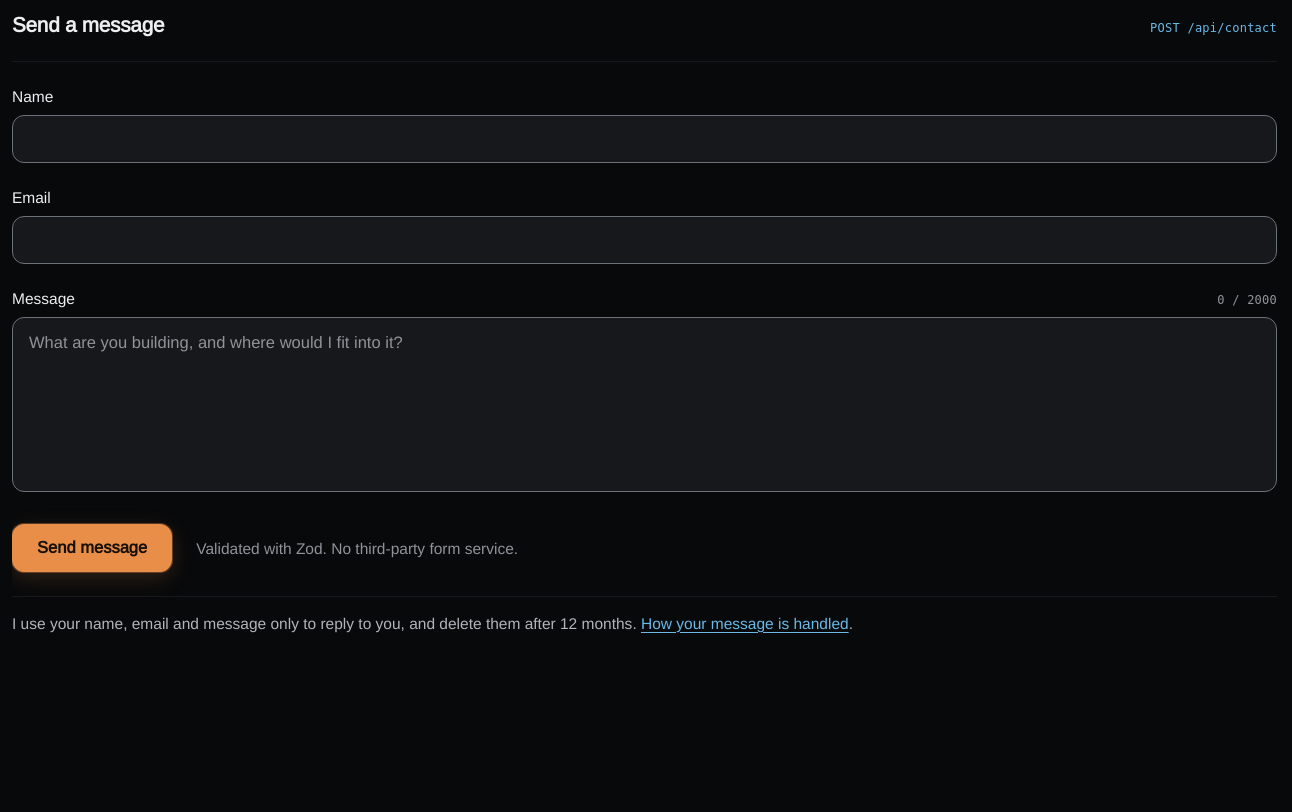
it: ContactForm › shows the success state after a successful send
In the field labelled "Name": (644, 139) [12, 115, 1277, 163], type "Ada Lovelace"
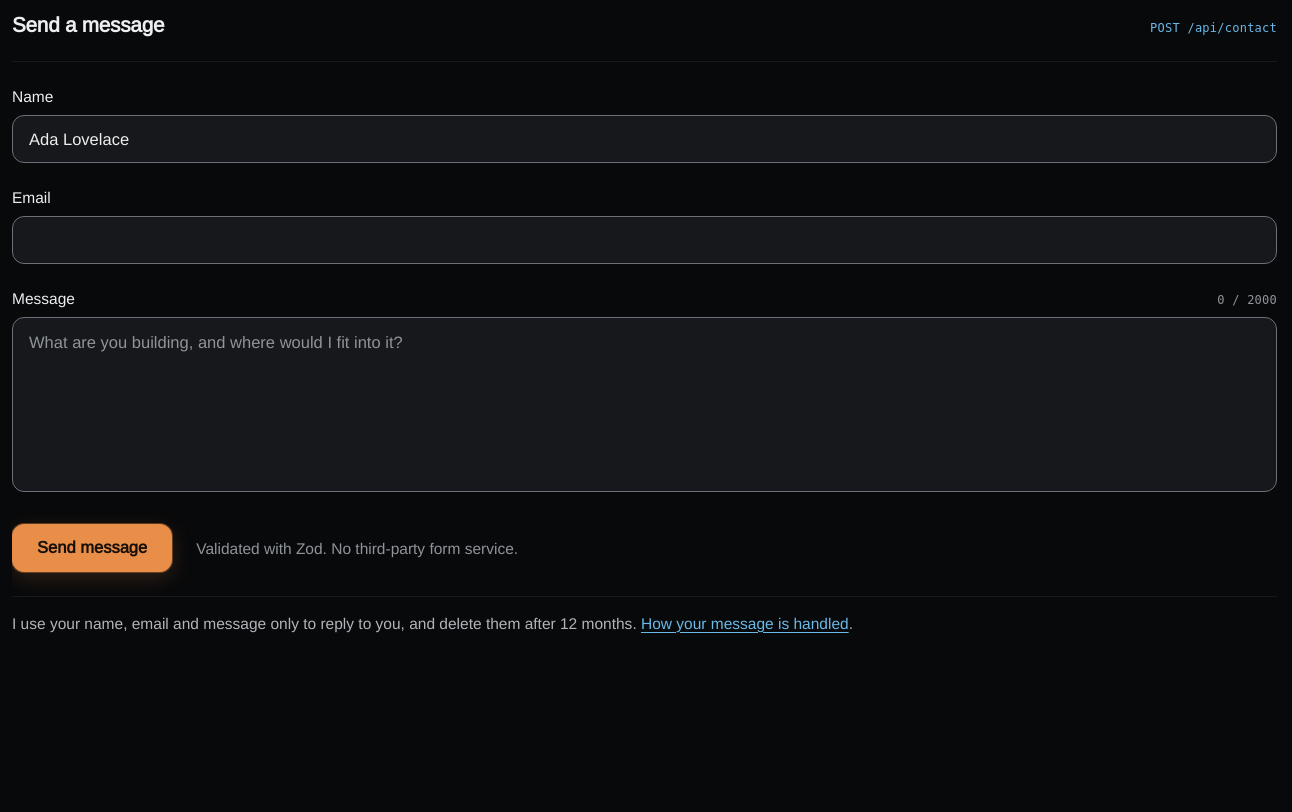
In the field labelled "Email": (644, 240) [12, 216, 1277, 264], type "ada@example.com"
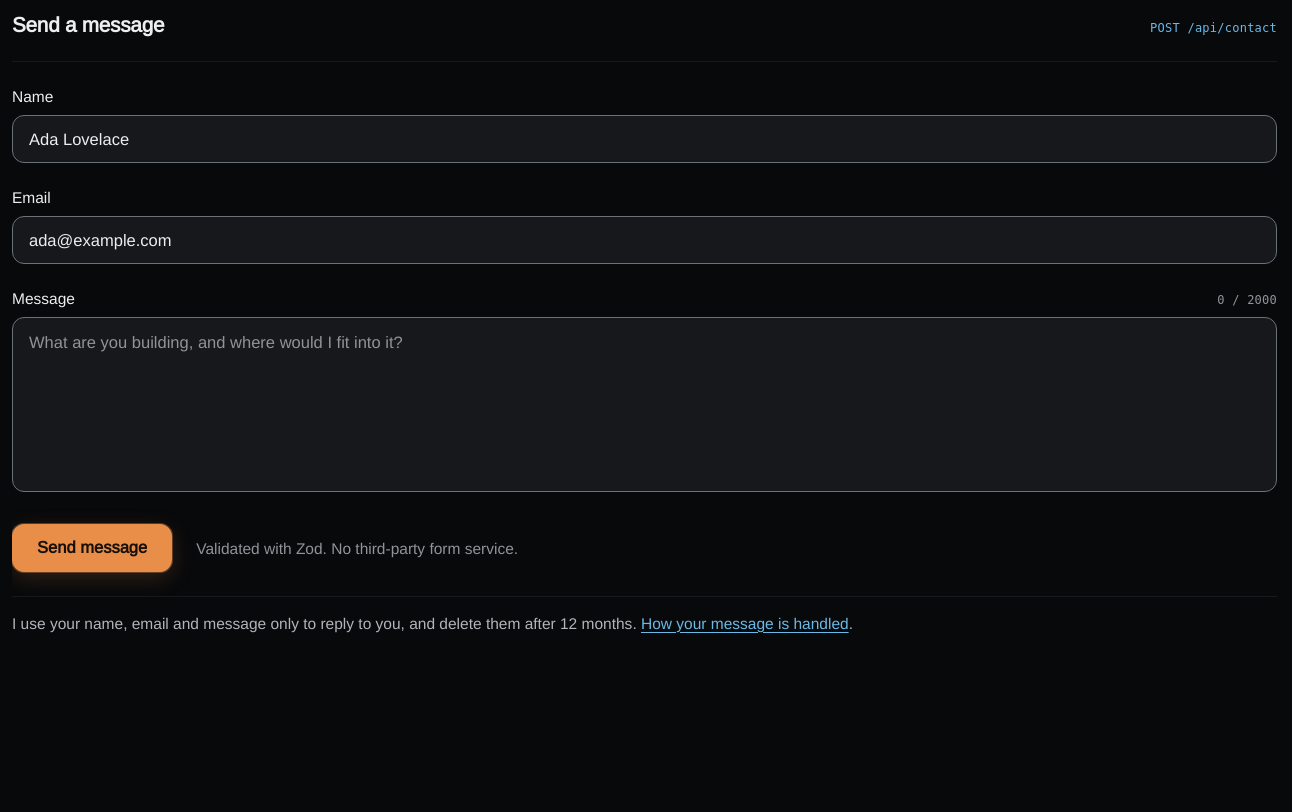
In the text box labelled "Message": (644, 404) [12, 317, 1277, 492], type "I would like to talk to you about a full-stack role."
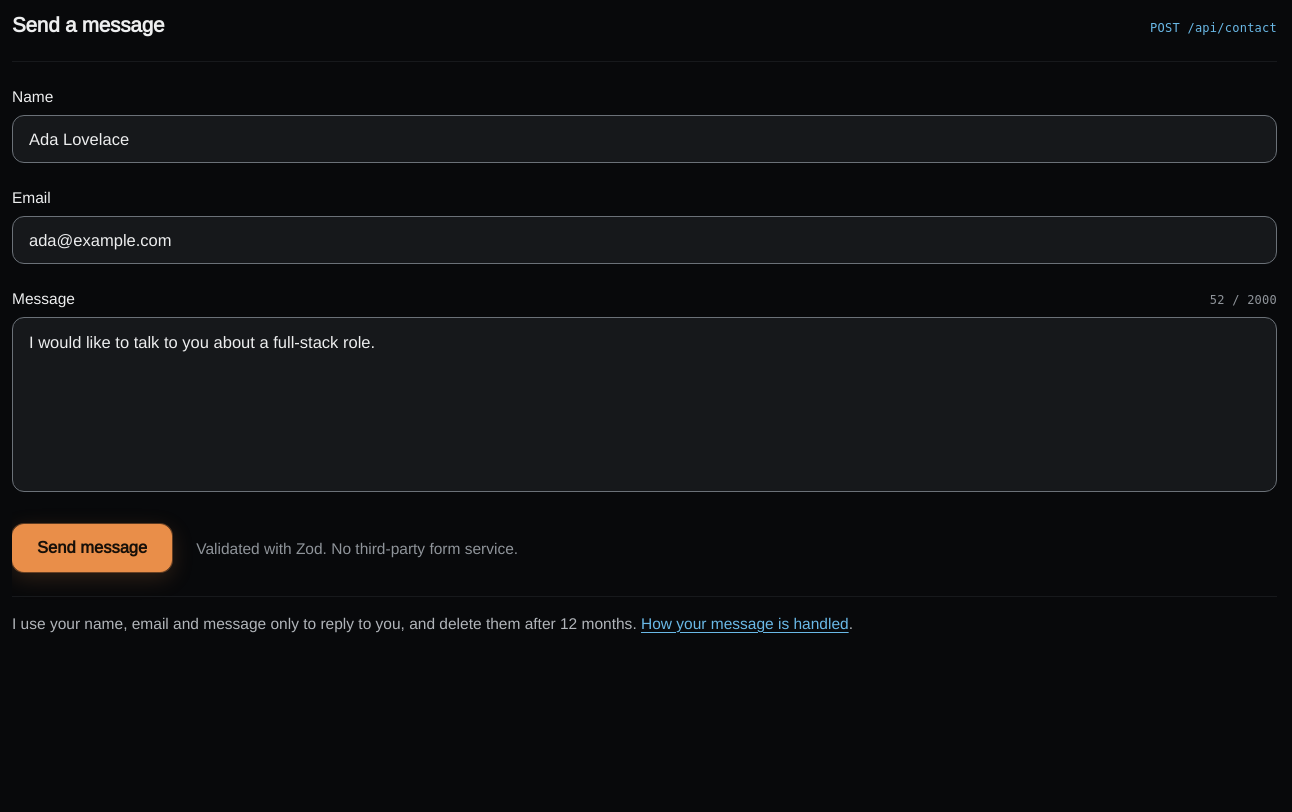
Click the button named "send message": (92, 548) [12, 524, 172, 572]
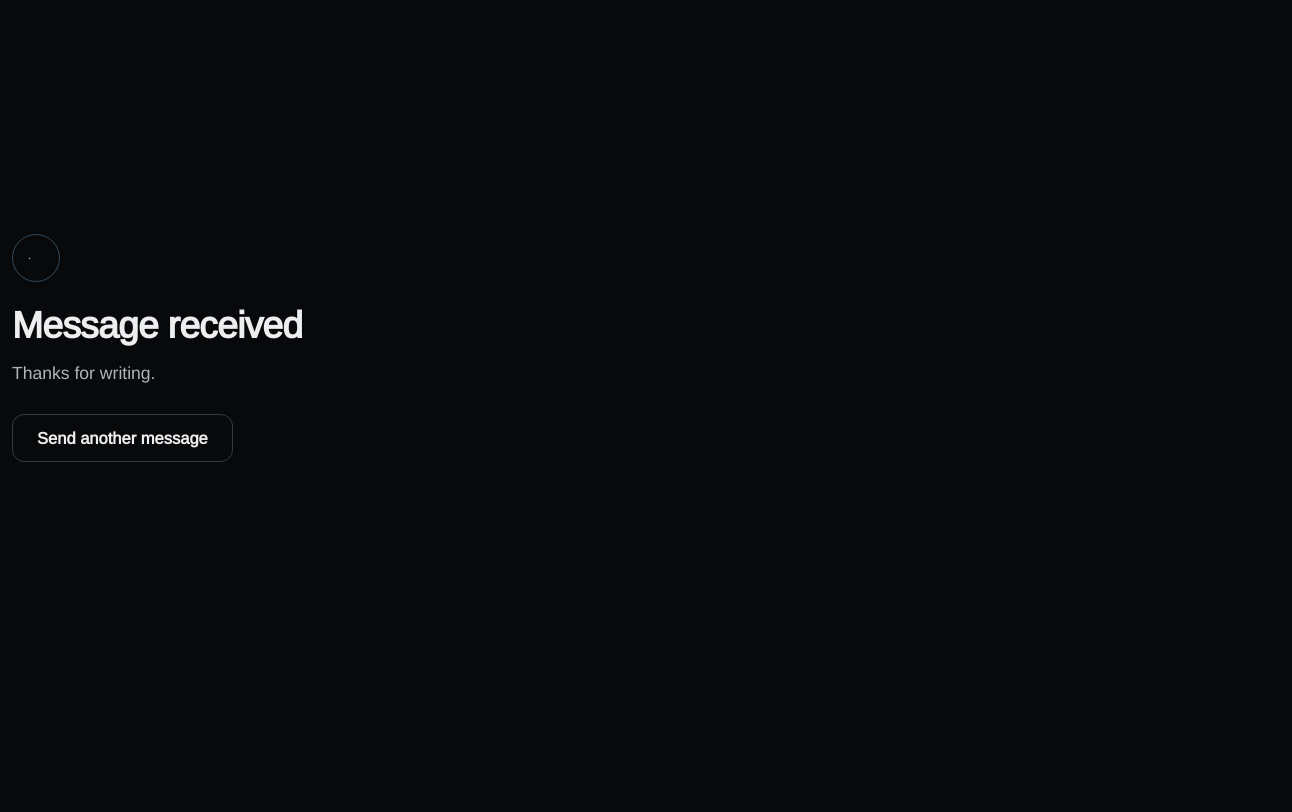
Expected: the heading "Message received" is shown, [12, 306, 302, 343]
